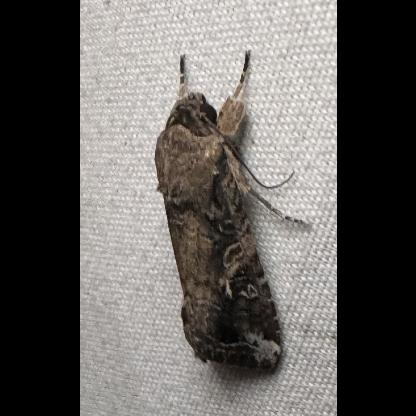Fall Armyworm Moth: (150, 47, 312, 379)
